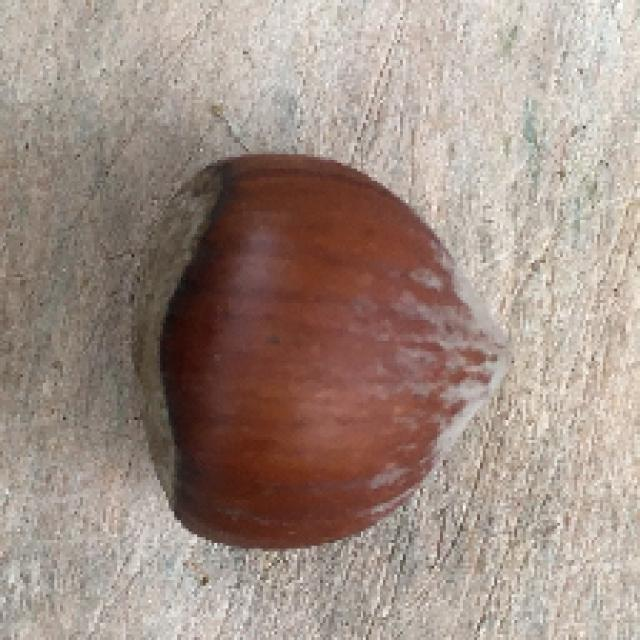qualityHazelnut: (124, 150, 518, 556)
